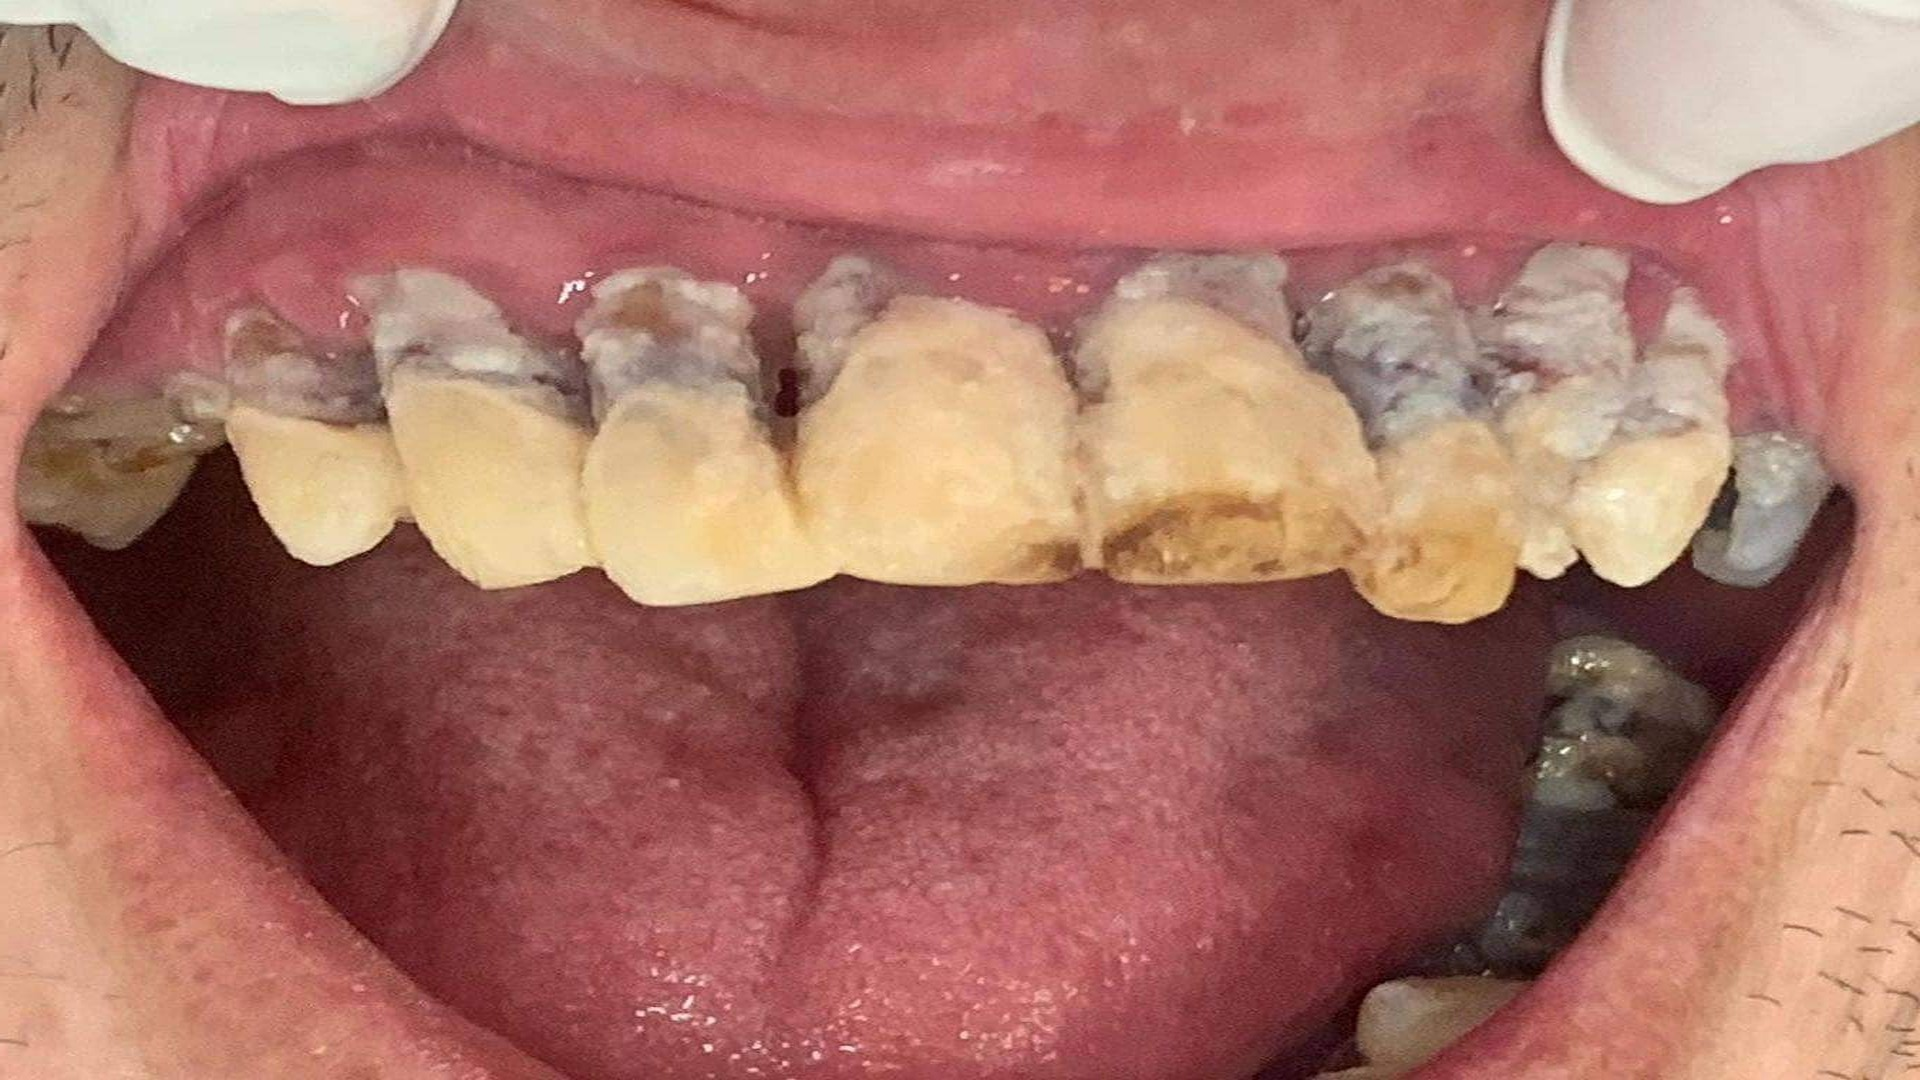tooth: (1073, 252, 1389, 586), (574, 268, 841, 606), (792, 292, 1093, 586), (1296, 262, 1537, 625), (1490, 242, 1733, 587), (346, 269, 598, 590), (224, 299, 410, 567), (15, 377, 229, 550), (1530, 634, 1718, 813), (1692, 431, 1833, 588)
